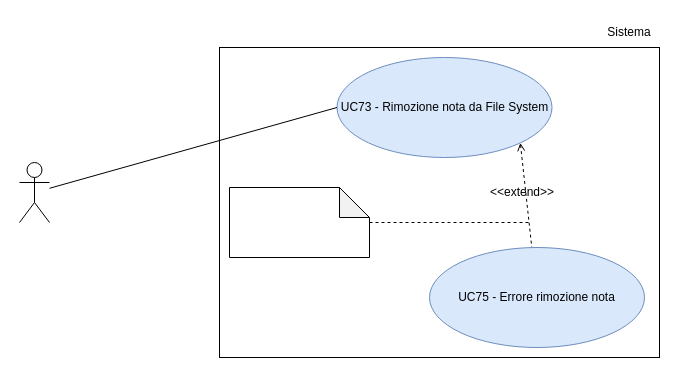
Some shapes in this 677 by 375 pixel diagram are drawn without their labels. Each missing label, with the centre of its shape:
"Condizione Il sistema non riesce ad eliminare la nota" goes at [299,222].
"Utente" goes at [34,192].
